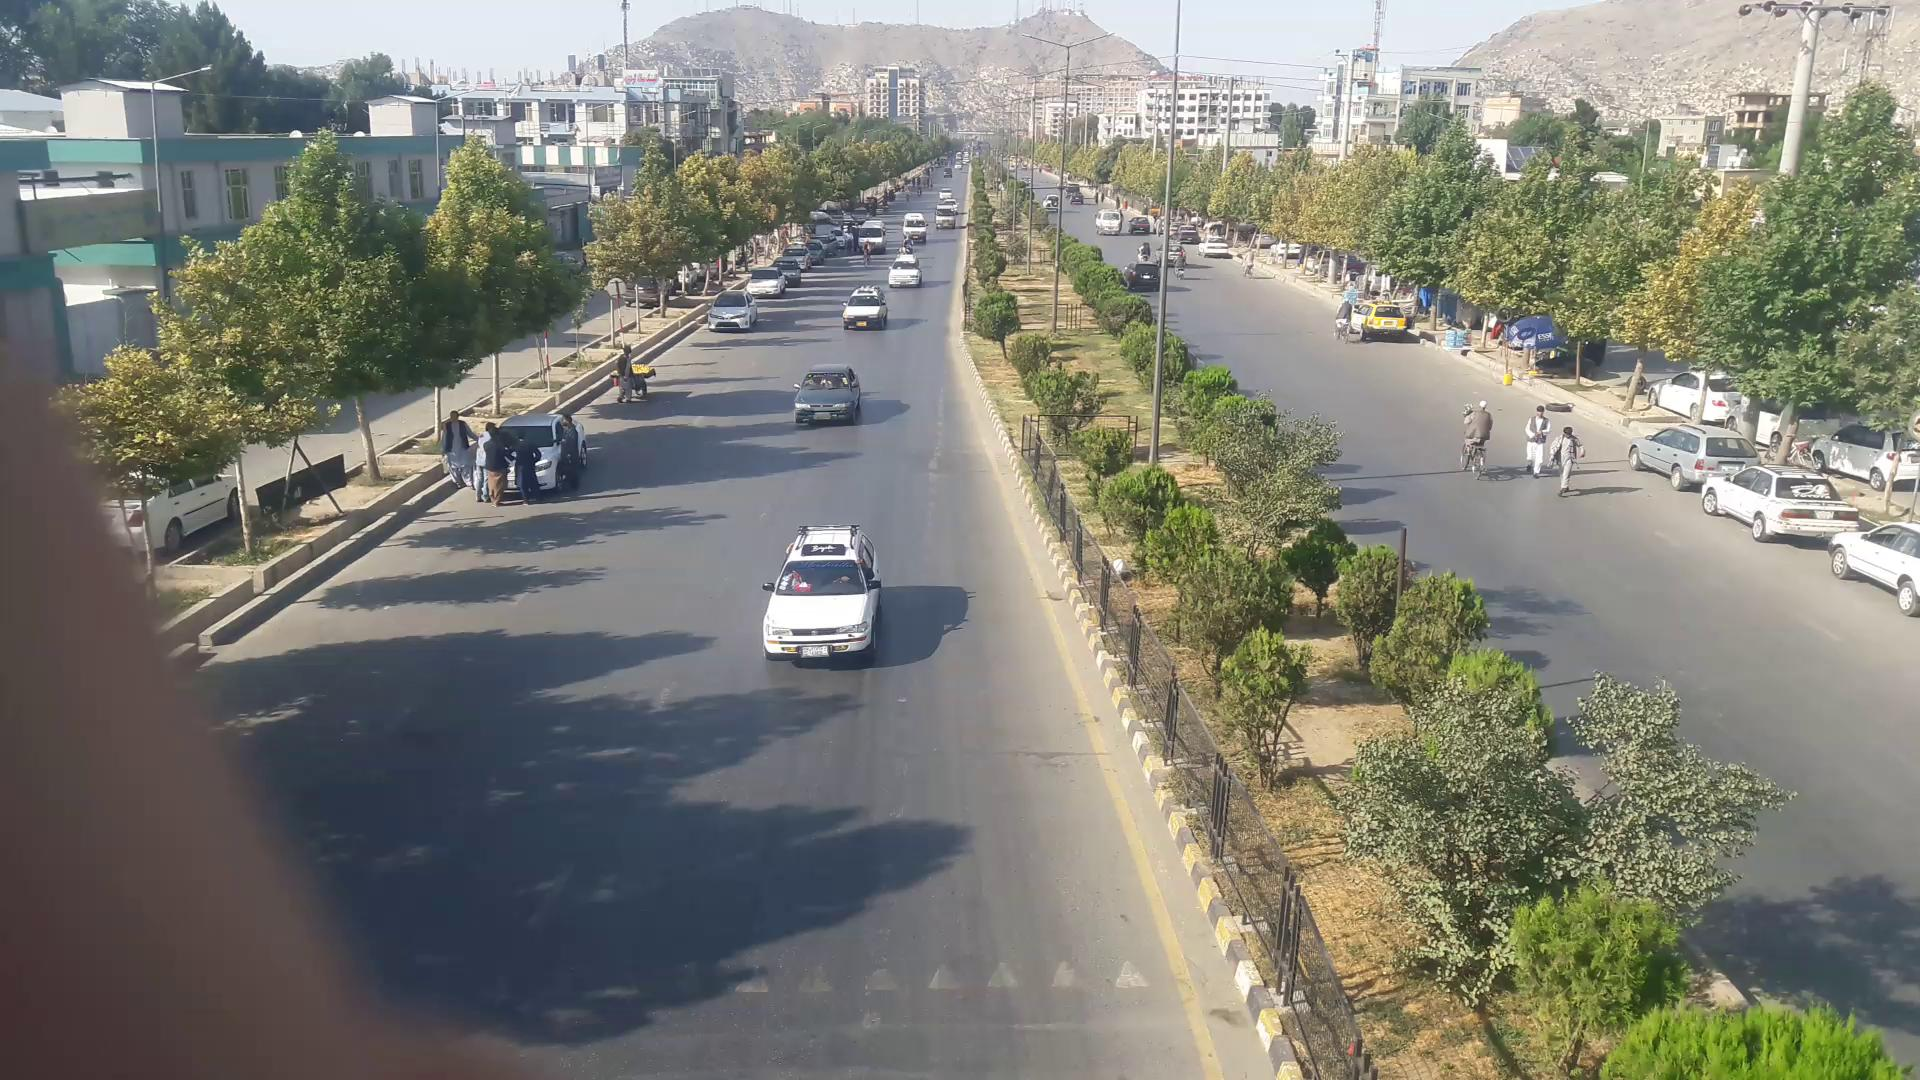car: (762, 521, 890, 657), (1706, 465, 1867, 550), (1829, 520, 1919, 617), (1627, 427, 1770, 483), (789, 368, 862, 427), (1350, 302, 1407, 339), (843, 287, 891, 326), (707, 294, 756, 328), (884, 253, 924, 285), (1120, 262, 1164, 289)
